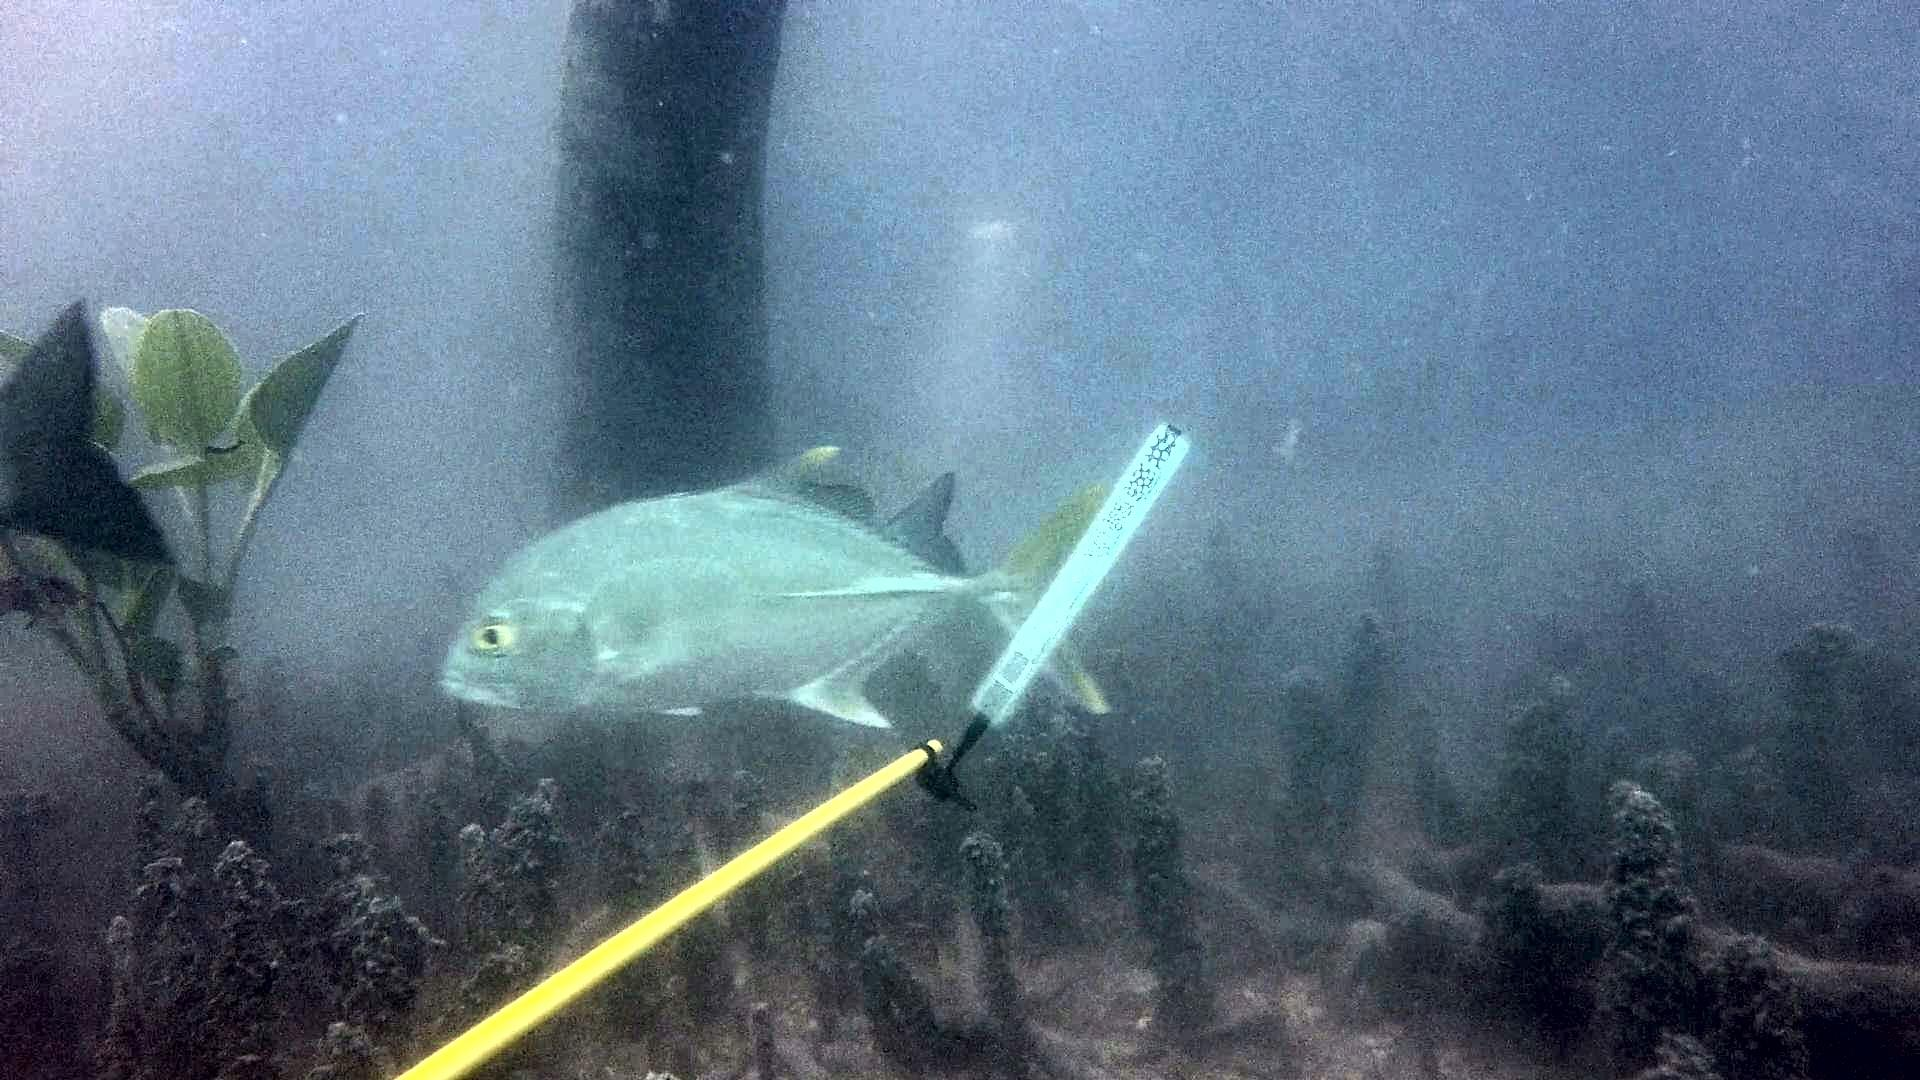acanthopagrus palmaris: (0, 284, 181, 585)
caranx: (410, 430, 1129, 753)
